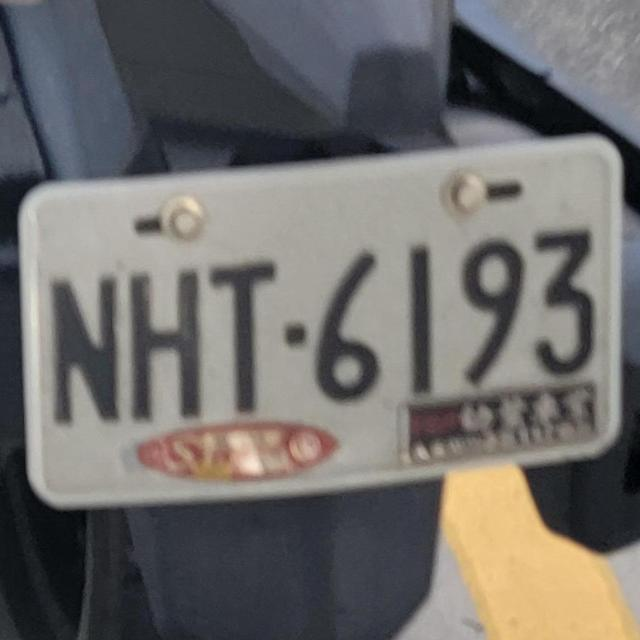W: (4, 132, 630, 514)
